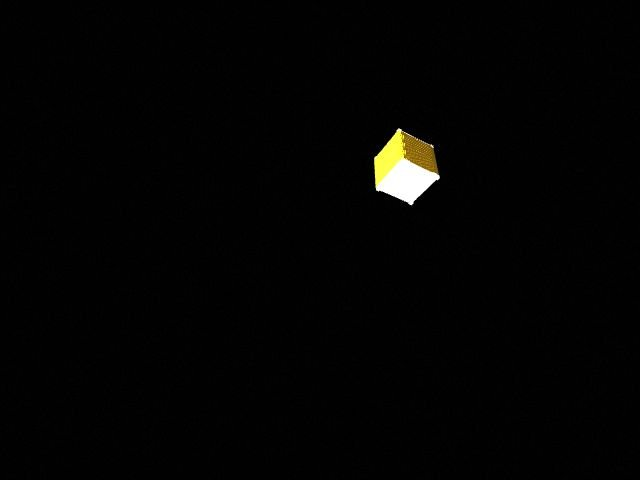cubesat: (368, 125, 446, 211)
